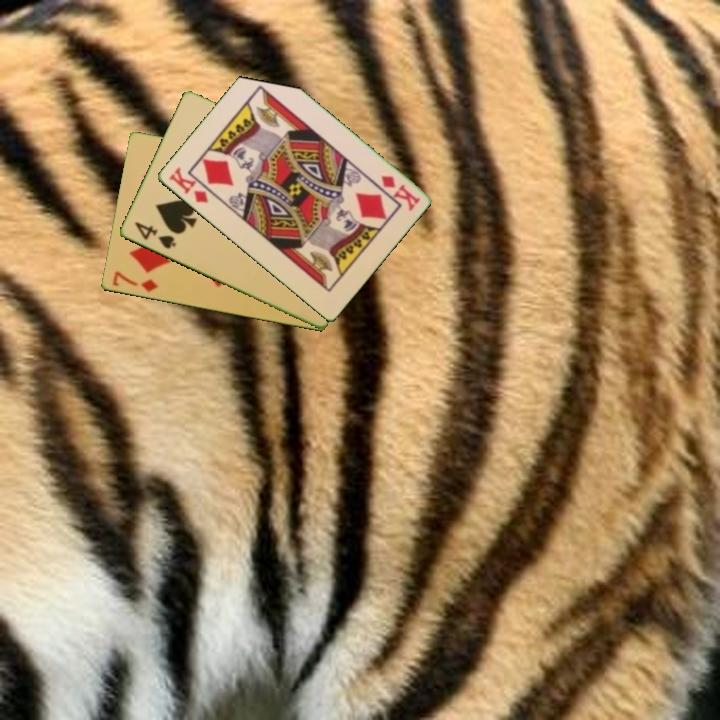4s: (130, 218, 179, 252)
7d: (109, 268, 160, 295)
Kd: (165, 164, 211, 206), (377, 172, 423, 213)
